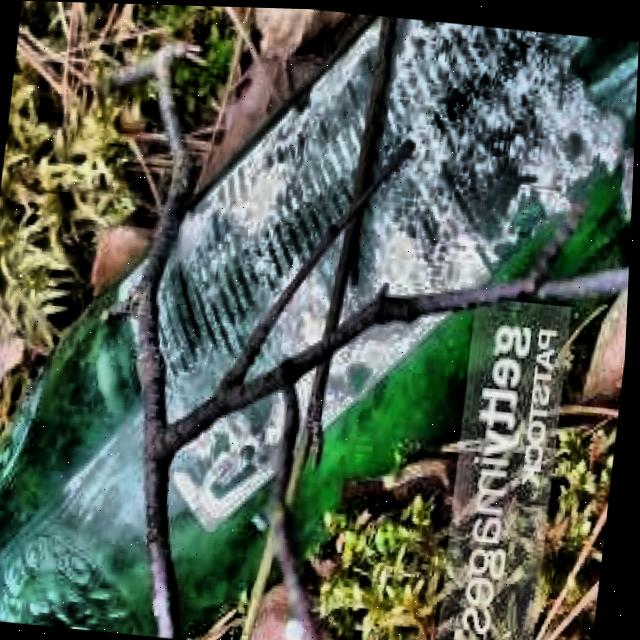glass: (0, 11, 639, 636)
